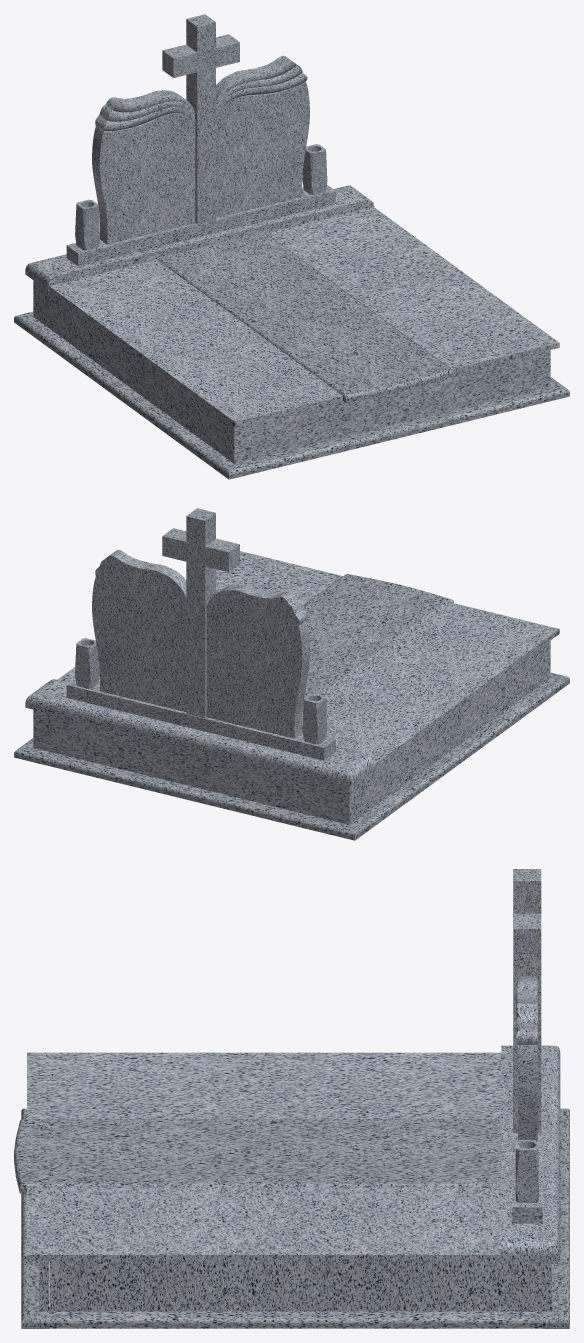
The model's file is Test animatie.glb.
The picture shows the model from 3 angles, top to bottom: view 1: azimuth 30°, elevation 25°; view 2: azimuth 150°, elevation 25°; view 3: azimuth 270°, elevation 25°; orthographic projection. The views are drawn at different scales.
Parts seen in each view (by area): view 1: Capac stanga, Capac mijloc, Capac dreapta, Monumente textura split, Monumente textura, Cadru picioare, Cadru stanga, Inaltator picioare, Jug, Cruce verticala textura, Postament textura, Inaltator stanga (+3 smaller); view 2: Capac stanga, Monumente textura split, Monumente textura, Cadru cap, Capac mijloc, Jug, Cadru stanga, Inaltator cap, Cruce verticala textura, Postament textura, Inaltator stanga, Capac dreapta (+3 smaller); view 3: Capac dreapta, Capac mijloc, Capac stanga, Cadru dreapta, Inaltator dreapta, Jug, Cruce verticala textura, Monumente textura, Inaltator cap, Inaltator picioare, Postament textura, Vaza dreapta textura (+1 smaller).
Part boxes in pixels (x1,y1,x2,y2): Capac stanga: [49, 260, 342, 426]; Capac mijloc: [157, 232, 453, 402]; Capac dreapta: [266, 207, 559, 373]; Monumente textura split: [92, 90, 195, 244]; Monumente textura: [216, 55, 309, 217]; Cadru picioare: [230, 350, 550, 463]; Cadru stanga: [37, 284, 230, 460]; Inaltator picioare: [218, 381, 569, 479]; Jug: [25, 185, 374, 291]; Cruce verticala textura: [186, 14, 215, 224]; Postament textura: [66, 185, 335, 266]; Inaltator stanga: [25, 320, 229, 471]; Capac stanga: [302, 602, 559, 769]; Monumente textura split: [206, 585, 309, 738]; Monumente textura: [92, 549, 186, 711]; Cadru cap: [33, 709, 353, 824]; Capac mijloc: [302, 574, 453, 711]; Jug: [25, 679, 374, 786]; Cadru stanga: [353, 644, 546, 821]; Inaltator cap: [14, 742, 365, 840]; Cruce verticala textura: [186, 508, 215, 718]; Postament textura: [66, 678, 335, 760]; Inaltator stanga: [354, 681, 558, 832]; Capac dreapta: [57, 551, 342, 682]; Capac dreapta: [27, 1187, 501, 1261]; Capac mijloc: [14, 1119, 501, 1193]; Capac stanga: [27, 1052, 501, 1119]; Cadru dreapta: [50, 1261, 541, 1311]; Inaltator dreapta: [49, 1307, 541, 1328]; Jug: [501, 1045, 560, 1261]; Cruce verticala textura: [513, 869, 541, 1132]; Monumente textura: [516, 976, 537, 1140]; Inaltator cap: [541, 1108, 569, 1328]; Inaltator picioare: [21, 1108, 49, 1328]; Postament textura: [512, 1047, 542, 1223]; Vaza dreapta textura: [515, 1140, 538, 1202].
Size of the model in its own units: 215 by 164 by 238.
19 materials, 19 textured.
